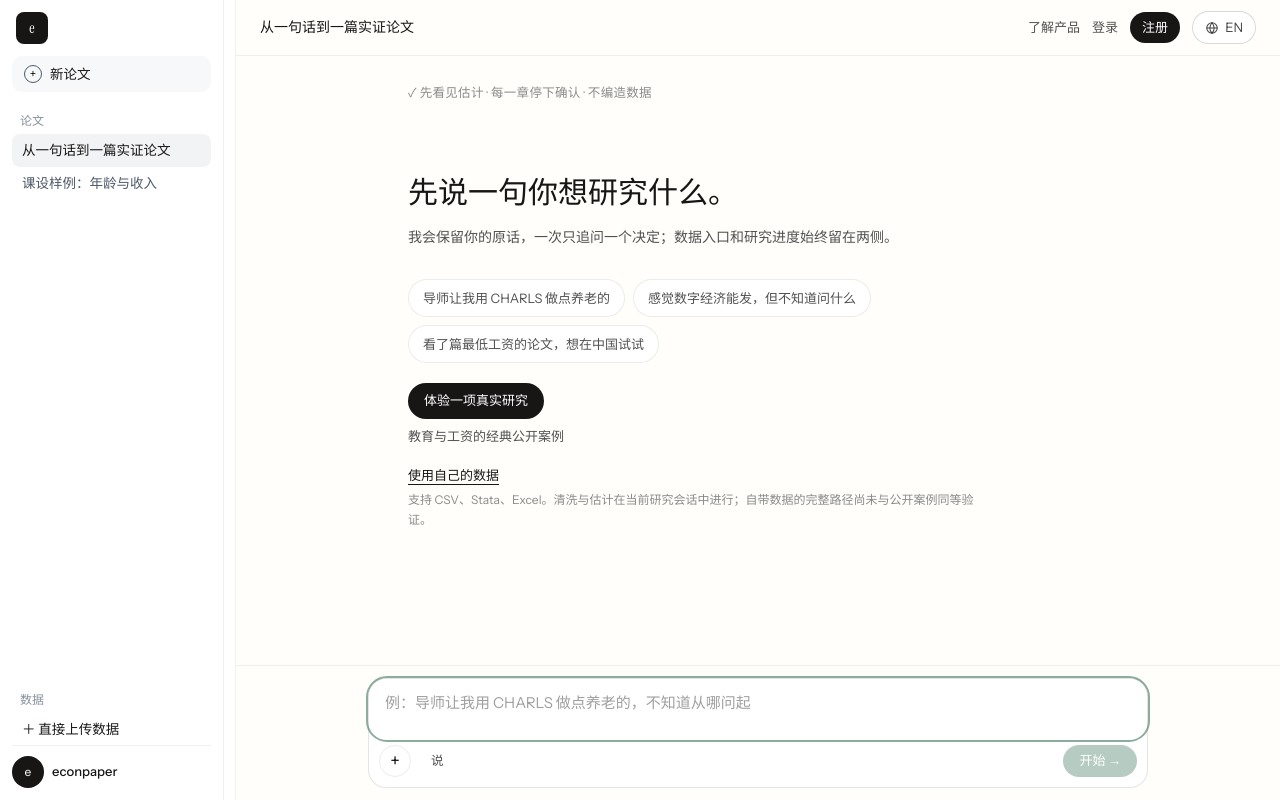
Test: header login button opens the login page
What coordinates should you click on to do the following:
click the button with test id "open-login-btn"
I would click on:
 (1105, 28)
Its box is x1=1092 y1=18 x2=1118 y2=37.
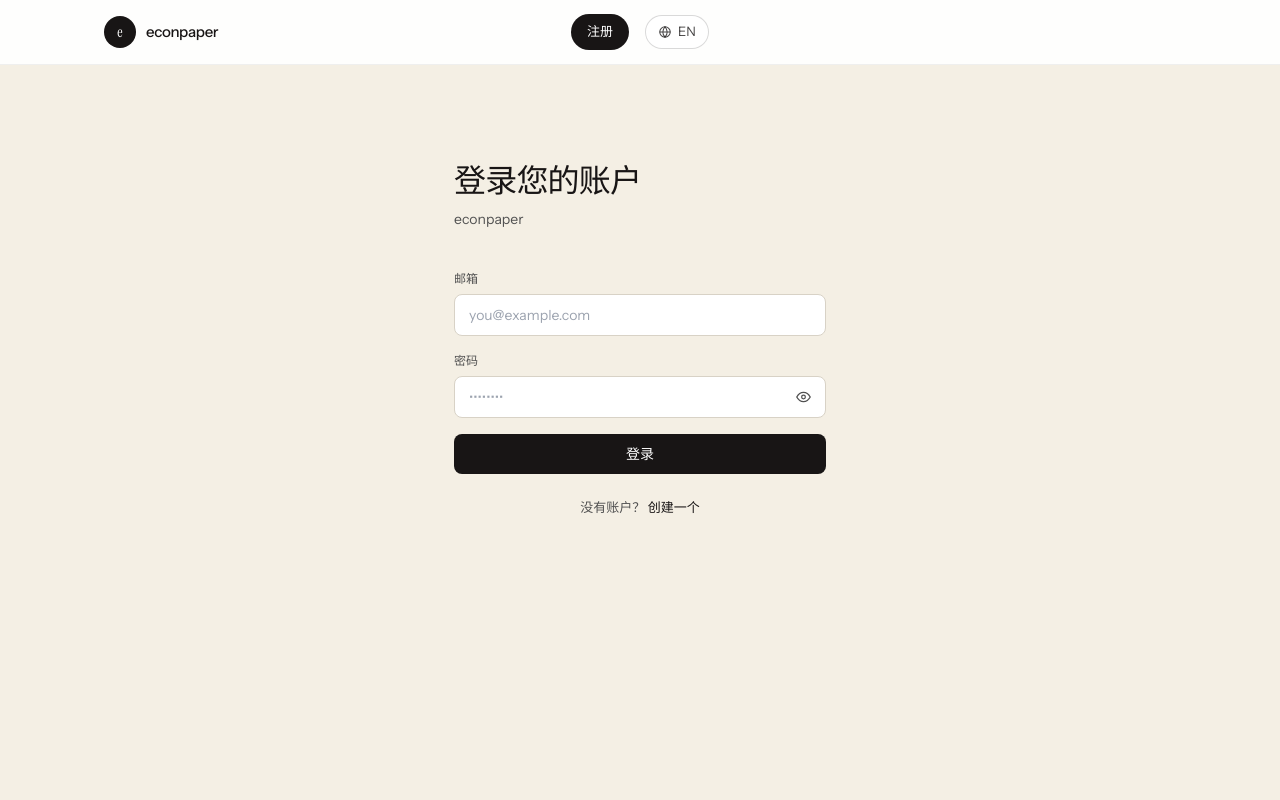
Result: the element with test id "login-page" is shown
